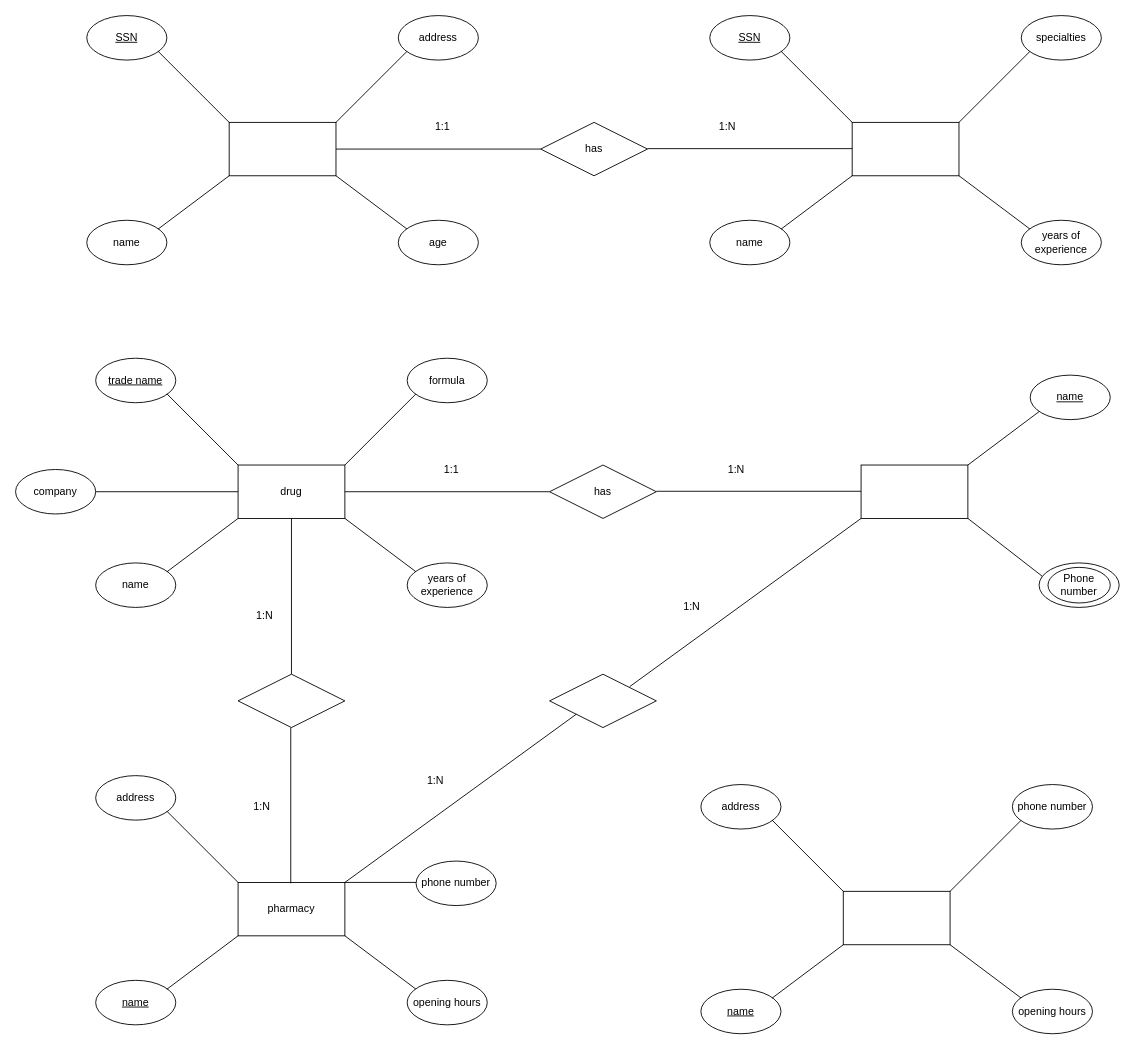
Some shapes in this 1135 by 1049 pixel diagram are drawn without their labels. The centre of each missing label's shape, as x and y in pixels:
"contract" goes at pixel 602 700.
"doctors" goes at pixel 905 148.
"Patients" goes at pixel 282 148.
"perception" goes at pixel 896 917.
"pharmaceutical company" goes at pixel 914 491.
"sells" goes at pixel 291 700.
